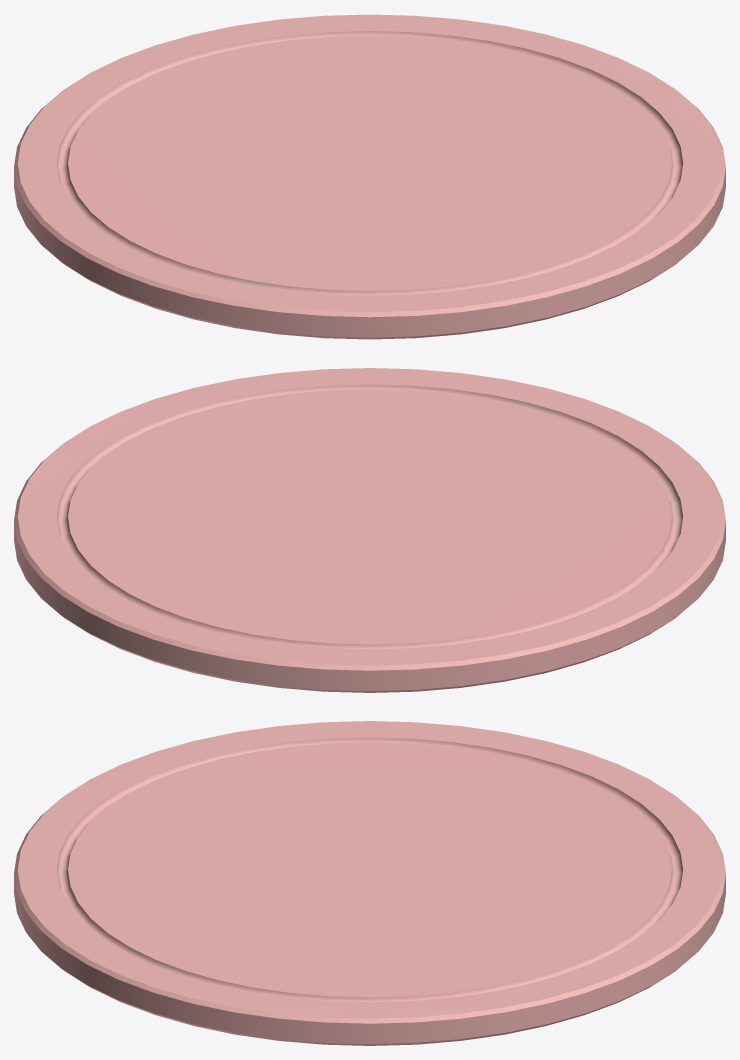
Rendered from SHAVR_SET_LAZYSUSAN.fbx.
The picture shows the model from 3 angles, top to bottom: view 1: azimuth 30°, elevation 25°; view 2: azimuth 150°, elevation 25°; view 3: azimuth 270°, elevation 25°; orthographic projection.
Parts seen in each view (by area): view 1: SHAVR_SET_LAZYSUSAN_TOP; view 2: SHAVR_SET_LAZYSUSAN_TOP; view 3: SHAVR_SET_LAZYSUSAN_TOP.
Boxes of the visible parts, left/top/right/bottom form: SHAVR_SET_LAZYSUSAN_TOP: left=14, top=14, right=725, bottom=339; SHAVR_SET_LAZYSUSAN_TOP: left=14, top=368, right=725, bottom=692; SHAVR_SET_LAZYSUSAN_TOP: left=14, top=721, right=725, bottom=1045.
Size of the model in its own units: 0.8 by 0.0572 by 0.8.
